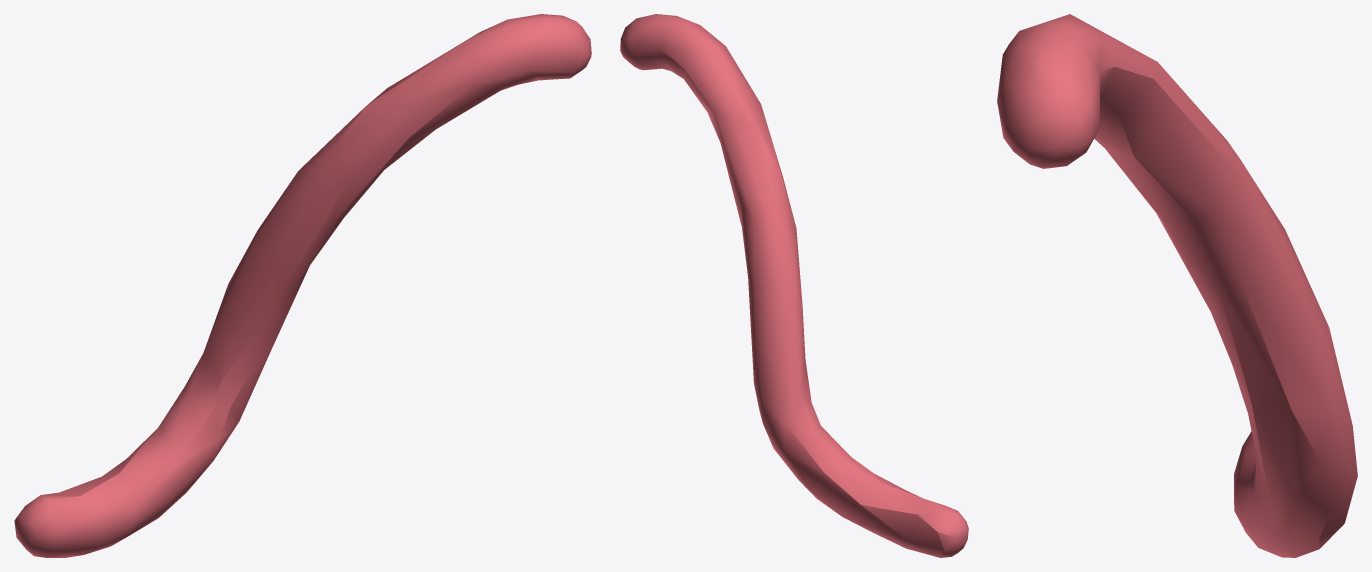
The model's file is fma76129_fj1718m.glb.
3 renders of one model, left to right at view 1: azimuth 30°, elevation 25°; view 2: azimuth 150°, elevation 25°; view 3: azimuth 270°, elevation 25°, orthographic. The views are drawn at different scales.
Parts seen in each view (by area): view 1: FMA76129_FJ1718M; view 2: FMA76129_FJ1718M; view 3: FMA76129_FJ1718M.
Part boxes in pixels (x1,y1,x2,y2): FMA76129_FJ1718M: (14, 14, 591, 557); FMA76129_FJ1718M: (620, 14, 968, 557); FMA76129_FJ1718M: (997, 14, 1357, 557).
Bounding box in the file's own units: 0.0176 × 0.017 × 0.00714.
